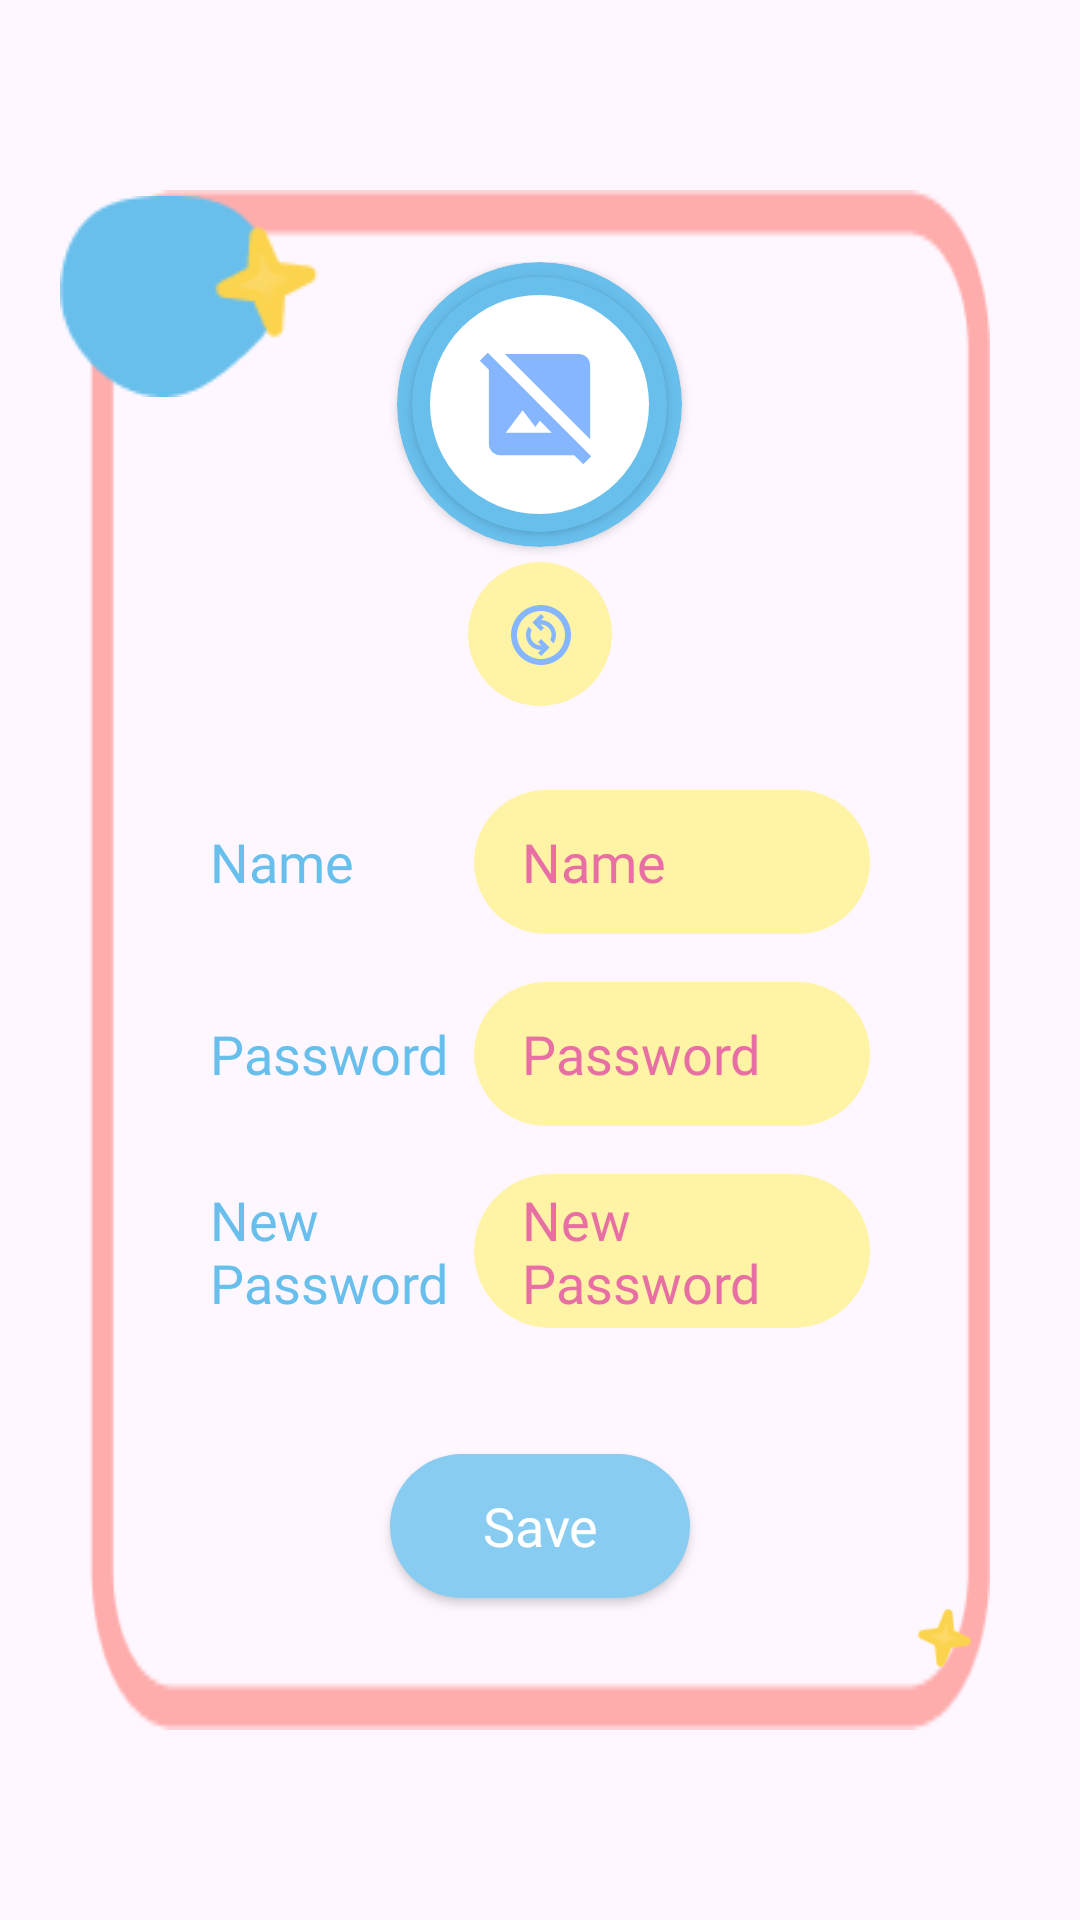

Where to tap for icons on this 1080*1920 app screen, as (x=x, y=y):
photo no: (x=539, y=404)
